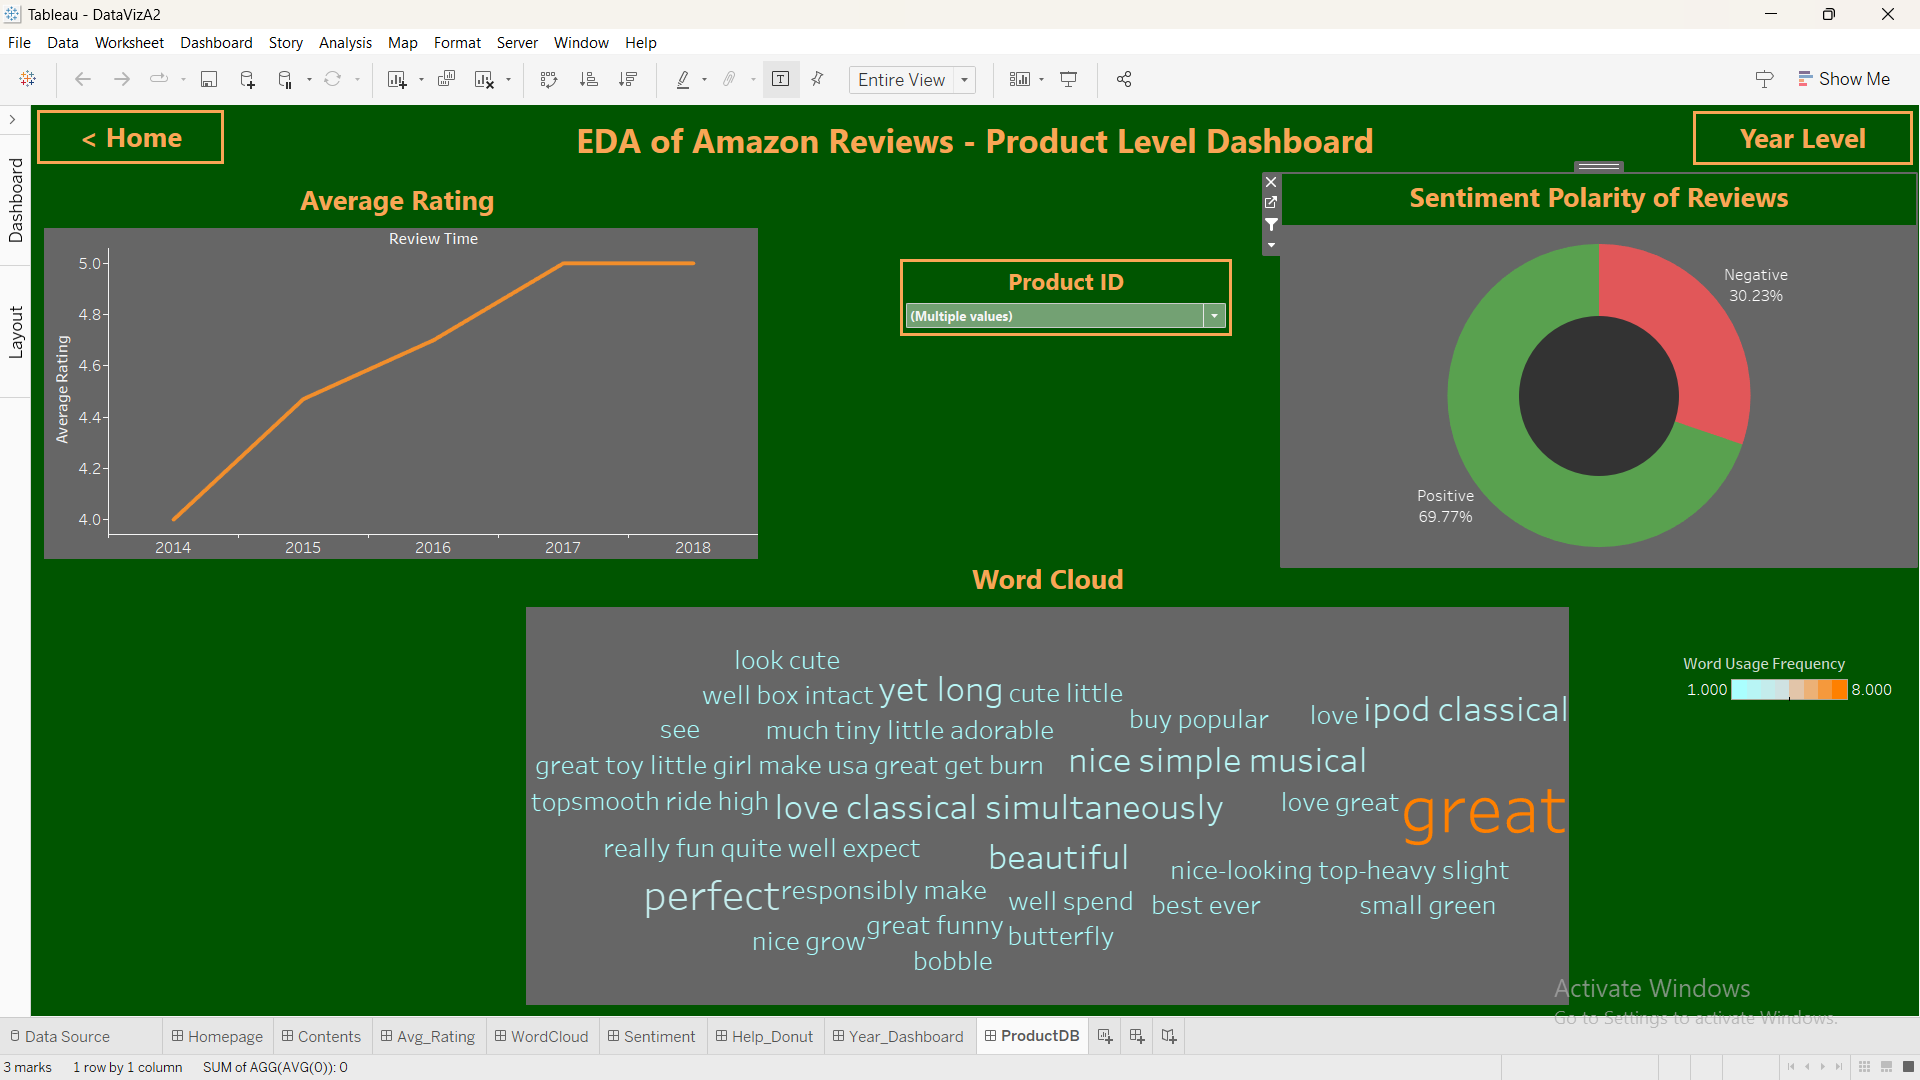

This screenshot's page, from the dashboard's own definition file:
{"tool":"tableau","page":{"name":"ProductDB","canvas":[1000,1000],"units":"permille","ordinal":4},"visuals":[{"type":"dashboard-object","box":[3,5.7,99,59.6]},{"type":"dashboard-object","box":[880.5,6.9,116.5,59.6]},{"type":"title","box":[4.8,8.8,990.3,57.1]},{"type":"worksheet","title":"Senti_Donut","mark":"Automatic","rows":["Calculation_2162572248146624520","Calculation_2162572248146645002"],"box":[662.6,75.6,335.6,430.7]},{"type":"worksheet","title":"Avg_rating_Prod","mark":"Automatic","rows":["overall"],"cols":["reviewTime"],"box":[6.6,79,378.4,419.2]},{"type":"filter","title":"Senti_Donut","param":"[federated.1woml7a03dh35r1a2w3kd0ithv3e].[none:asin:nk]","box":[460.5,169.5,175.6,84.8]},{"type":"worksheet","title":"wcloud","mark":"Text","box":[261.9,494.9,552.8,492.6]},{"type":"legend","title":"wcloud","param":"[federated.1woml7a03dh35r1a2w3kd0ithv3e].[cnt:clean_text_wordcloud:qk]","box":[875.1,601.4,113.5,69.9]}]}

Visuals, with their boxes on the dashboard's canvas, which has no fixed pixel size, in thousandths of its width and height (x1, y1, x2, y2). These are canvas units, not pixel positions in the 1920x1080 screenshot, which may show the page scaled, cropped or inside an application window:
dashboard-object: 3:6:102:65
dashboard-object: 880:7:997:66
title: 5:9:995:66
"Senti_Donut" worksheet: 663:76:998:506
"Avg_rating_Prod" worksheet: 7:79:385:498
"Senti_Donut" filter: 460:170:636:254
"wcloud" worksheet (Text marks): 262:495:815:988
"wcloud" legend: 875:601:989:671
